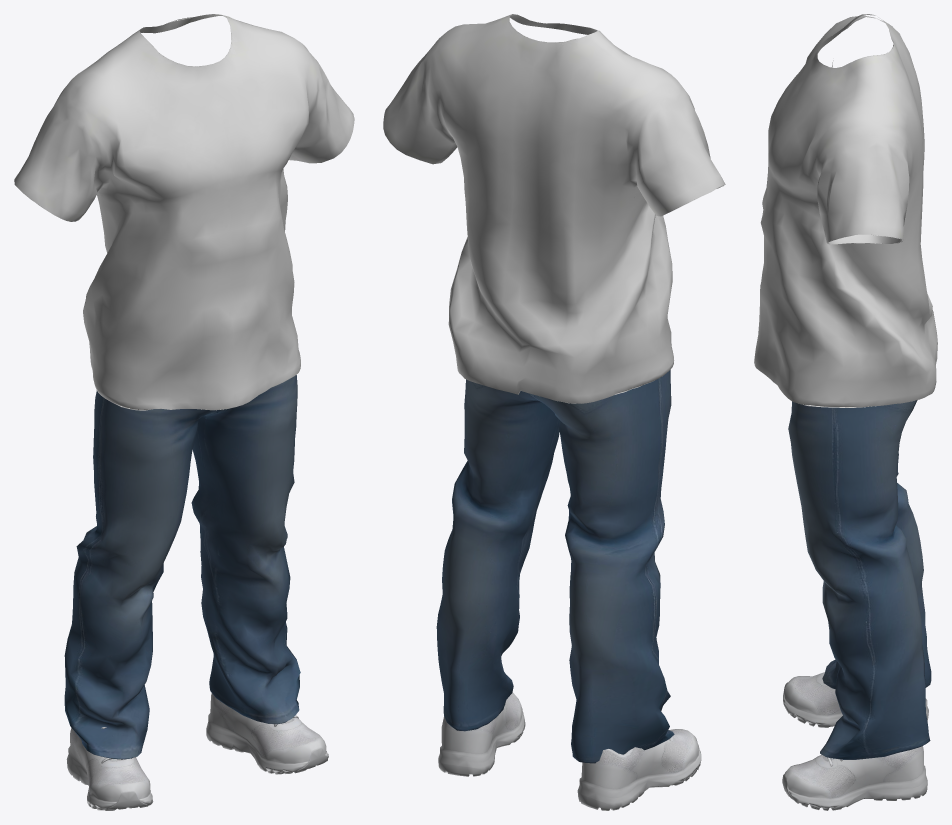
The model's file is mars__Casual_White_T-shirt.glb.
3 views of the same model, side by side, from view 1: azimuth 30°, elevation 25°; view 2: azimuth 150°, elevation 25°; view 3: azimuth 270°, elevation 25° (orthographic). The views are drawn at different scales.
Visible parts, largest first — view 1: outfit; view 2: outfit; view 3: outfit.
Part boxes in pixels (x1=…): outfit: x1=14, y1=14, x2=354, y2=810; outfit: x1=383, y1=14, x2=725, y2=810; outfit: x1=754, y1=14, x2=937, y2=810.
Bounding box in the file's own units: 0.7224 × 1.56 × 0.3572.
Materials: 3 (3 with a texture image).
